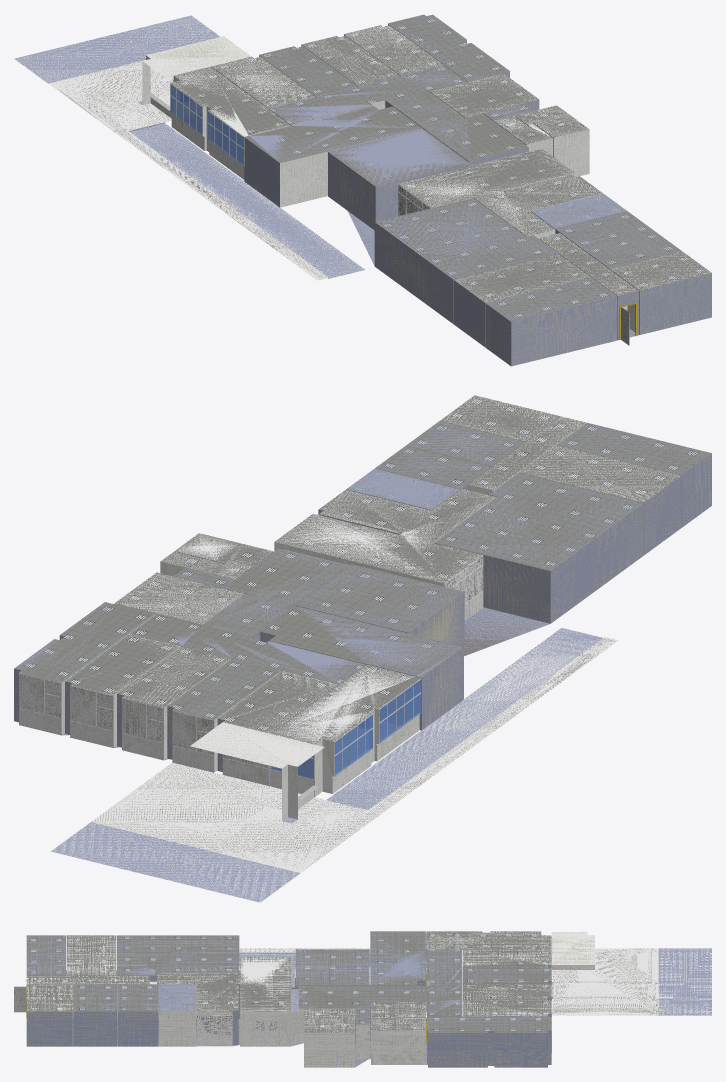
Rendered from dasygBeta7.fbx.
3 views of the same model, one above another, from view 1: azimuth 30°, elevation 25°; view 2: azimuth 150°, elevation 25°; view 3: azimuth 270°, elevation 25° (orthographic). The views are drawn at different scales.
Parts seen in each view (by area): view 1: Tavani1, Map1, Outside1; view 2: Tavani1, Map1, Outside1; view 3: Tavani1, Map1, Outside1, Small_Door_Moving16.
Boxes of the visible parts, x1,y1,x2,y2 form: Tavani1: (170, 14, 711, 321); Map1: (170, 23, 711, 366); Outside1: (14, 15, 364, 280); Tavani1: (14, 395, 711, 744); Map1: (14, 416, 711, 797); Outside1: (51, 628, 618, 902); Tavani1: (26, 931, 551, 1032); Map1: (26, 933, 551, 1067); Outside1: (239, 932, 711, 1015); Small_Door_Moving16: (14, 986, 26, 1012).
Bounding box in the file's own units: 22.1 × 3.07 × 54.66.
